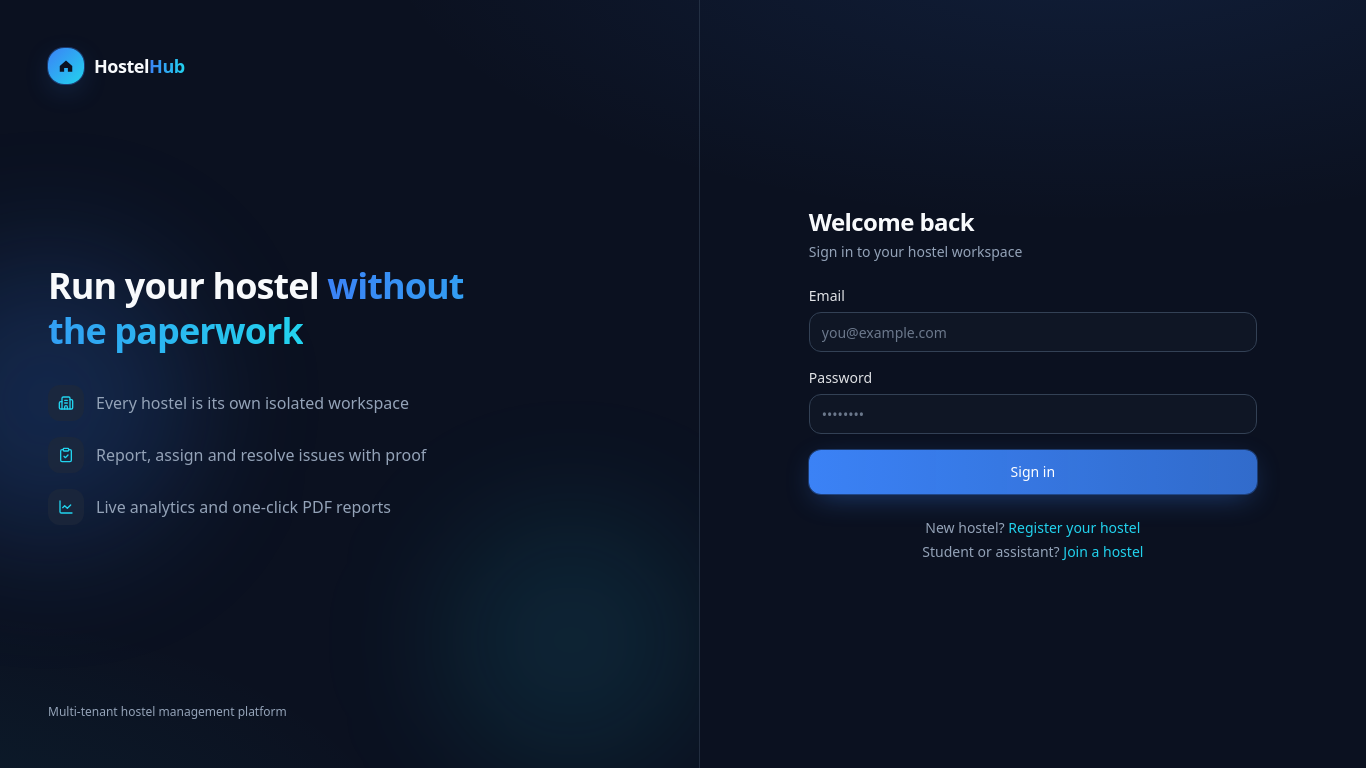
Scenario: login form › shows the server error message on bad credentials
Type "a@b.co" into the field labelled "Email". click: [1033, 332]
box: [809,312,1257,352]
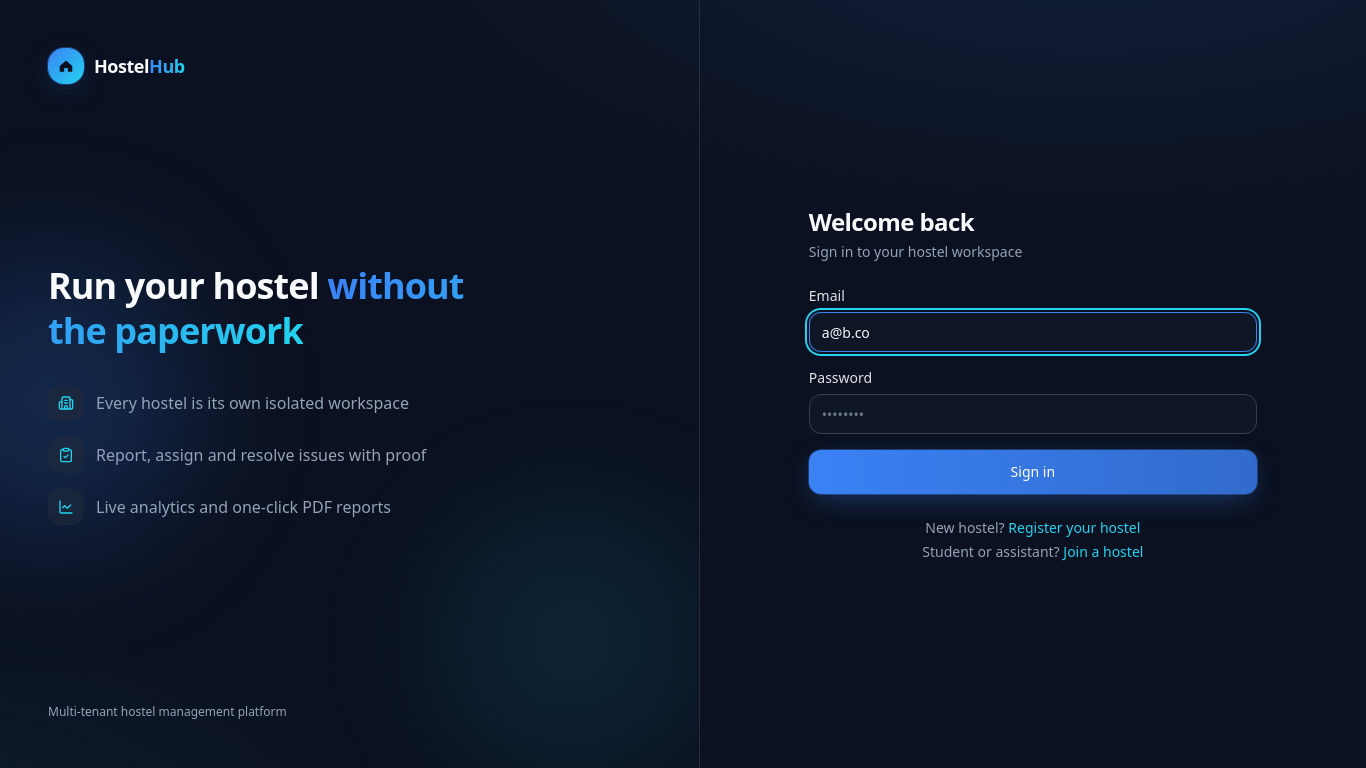
Type "wrong" into the password field labelled "Password". click: [1033, 414]
box: [809,394,1257,434]
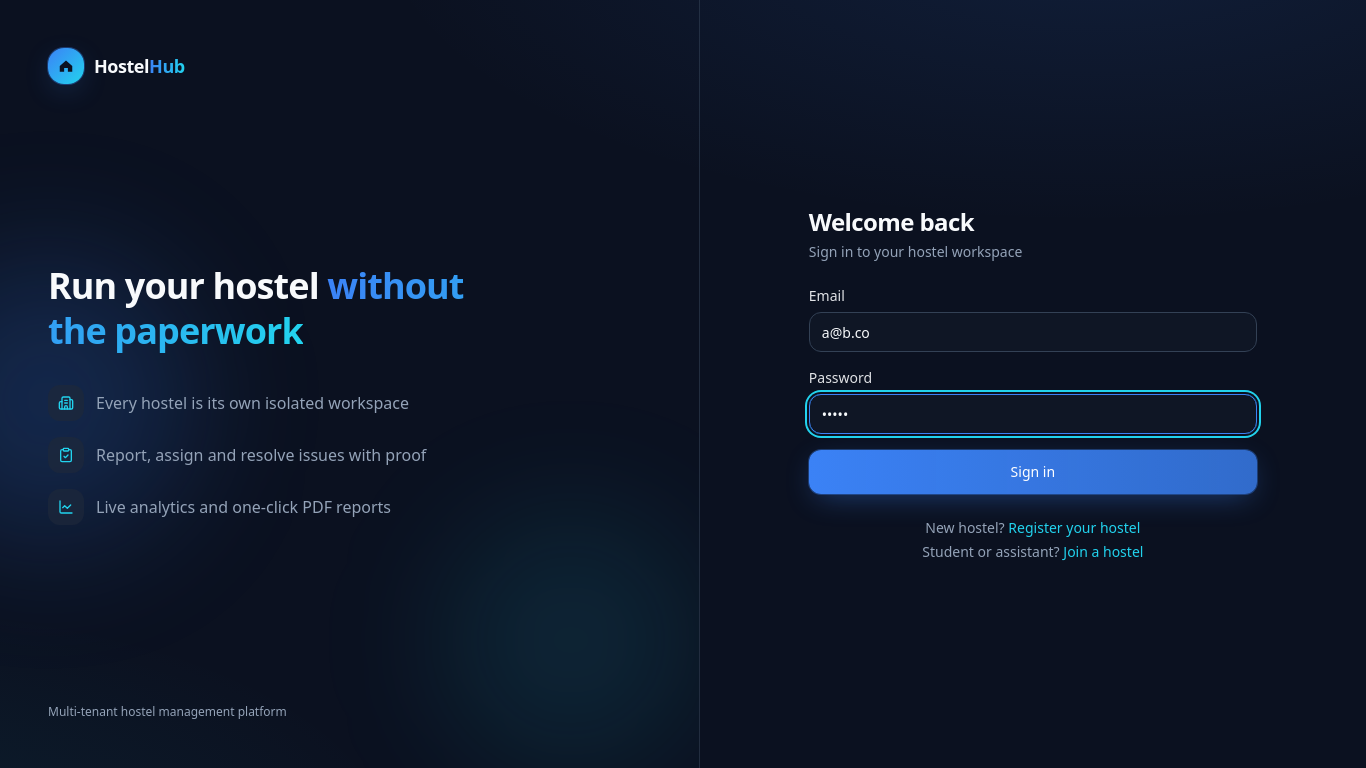
Click the button "Sign in". click: [1033, 472]
box: [809,450,1257,494]
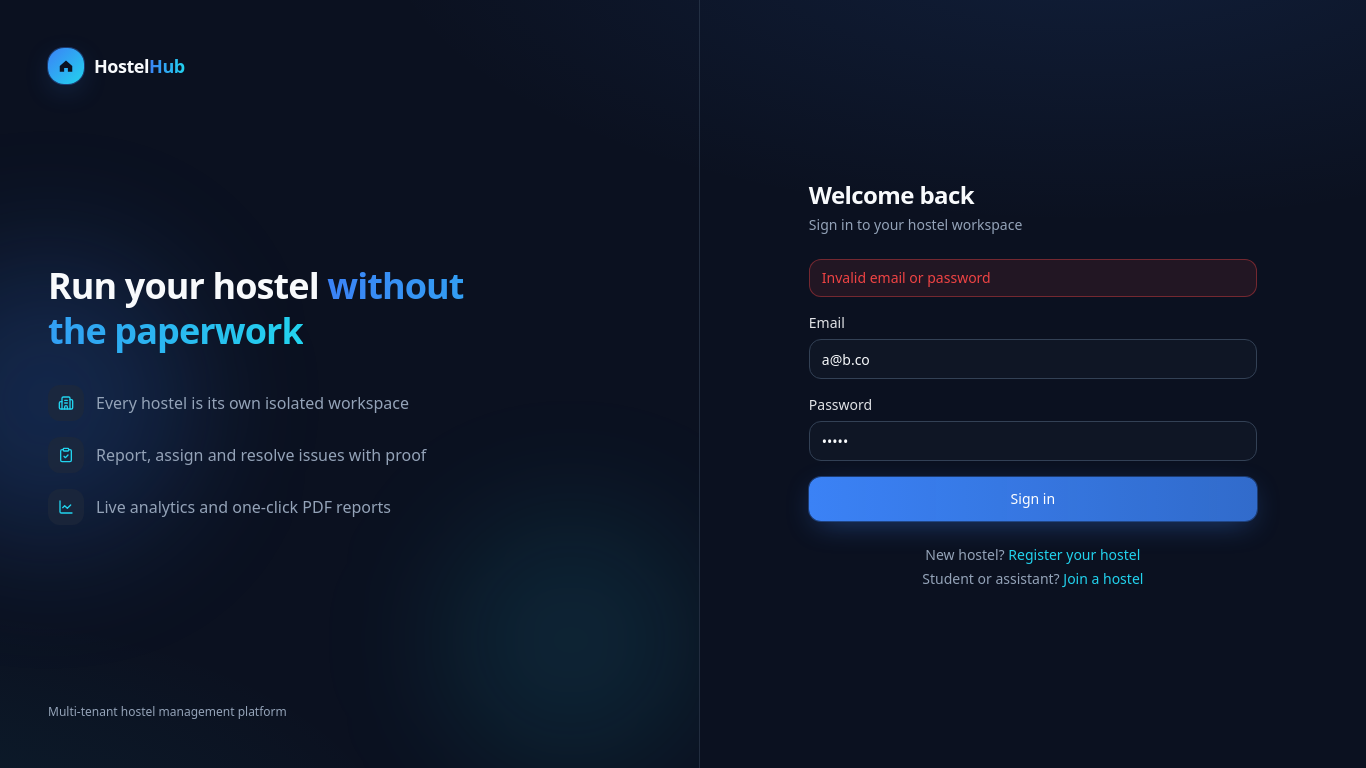
Check: the message reads "Invalid email or password", box [822,268,991,287]
